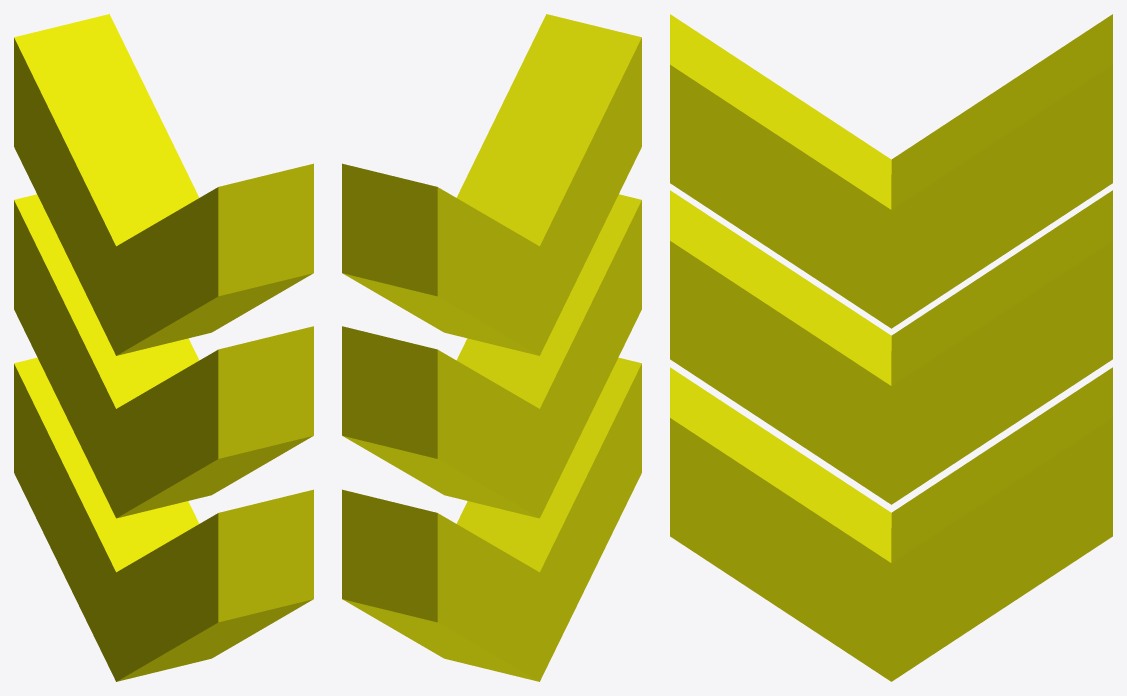
File: slow power.fbx
3 renders of one model, left to right at view 1: azimuth 30°, elevation 25°; view 2: azimuth 150°, elevation 25°; view 3: azimuth 270°, elevation 25°, orthographic. The views are drawn at different scales.
Visible parts, largest first — view 1: Cube; view 2: Cube; view 3: Cube.
Boxes of the visible parts, x1,y1,x2,y2 form: Cube: (14, 14, 313, 681); Cube: (342, 14, 641, 681); Cube: (670, 14, 1112, 681).
Bounding box in the file's own units: 35.56 × 203 × 132.
